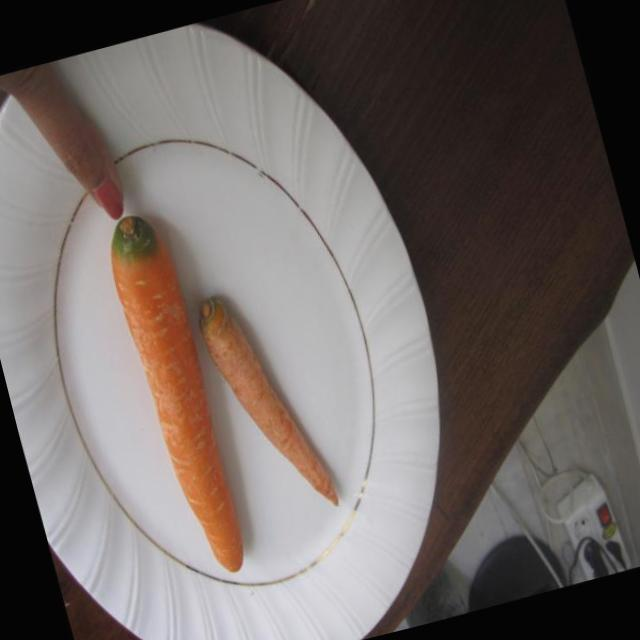Carrot: (101, 201, 262, 594), (190, 263, 346, 535)
Finger: (42, 85, 139, 238)
